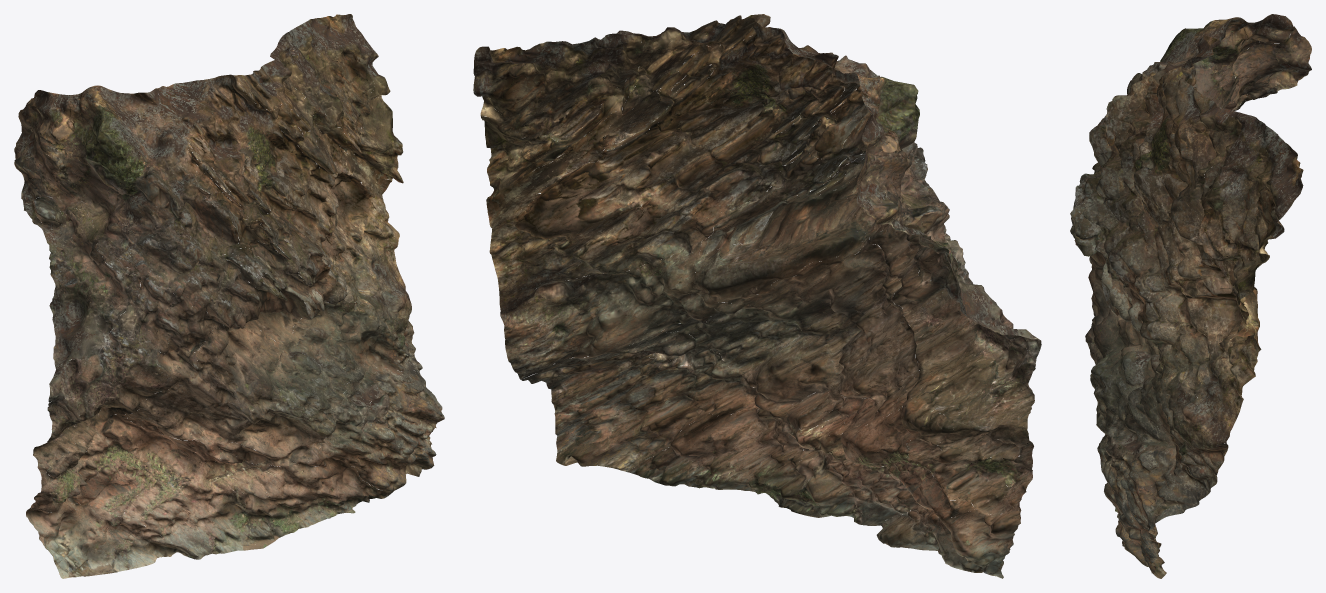
The model's file is mountainside.glb.
3 views of the same model, side by side, from view 1: azimuth 30°, elevation 25°; view 2: azimuth 150°, elevation 25°; view 3: azimuth 270°, elevation 25° (orthographic). The views are drawn at different scales.
Visible parts, largest first — view 1: mountainside; view 2: mountainside; view 3: mountainside.
Part boxes in pixels (box(x1,y1,x2,y2)): mountainside: box(14, 14, 444, 578); mountainside: box(473, 14, 1041, 578); mountainside: box(1070, 14, 1311, 578).
Size of the model in its own units: 10.21 by 10.53 by 5.25.
Materials: 1 (1 with a texture image).
